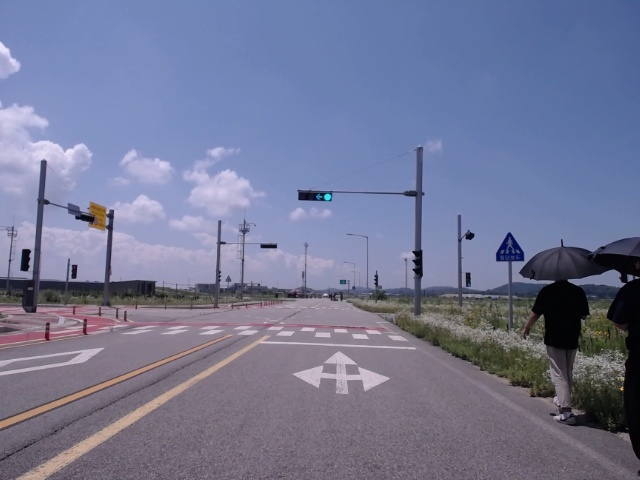all_green_4: (297, 190, 334, 203)
